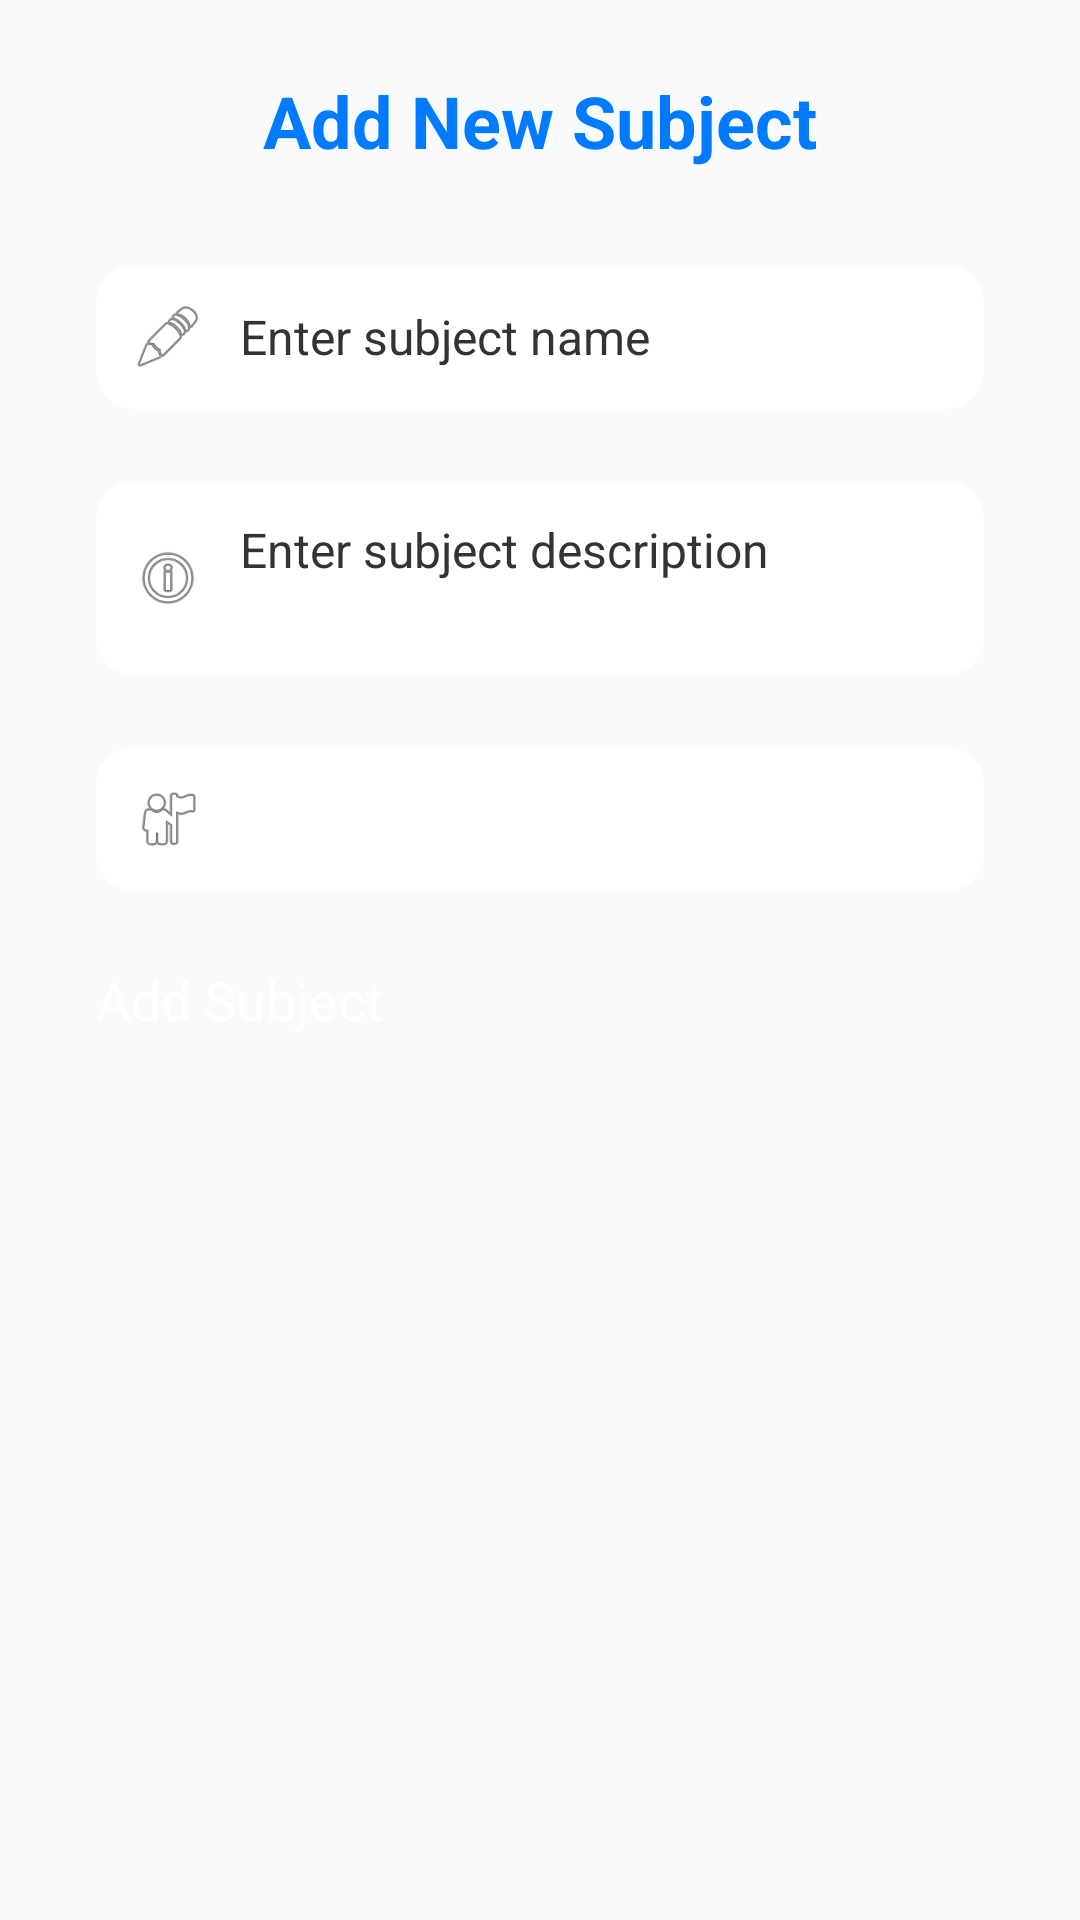

Screen size 1080 × 1920. Icon name, then its box in pixels as (x1, y1, x2, y2):
edit: (137, 306, 198, 367)
info details: (142, 552, 194, 604)
myplaces: (142, 792, 196, 846)
